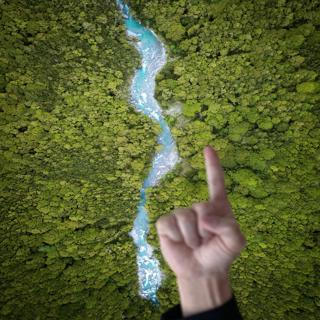IRRITATED: (150, 143, 247, 283)
